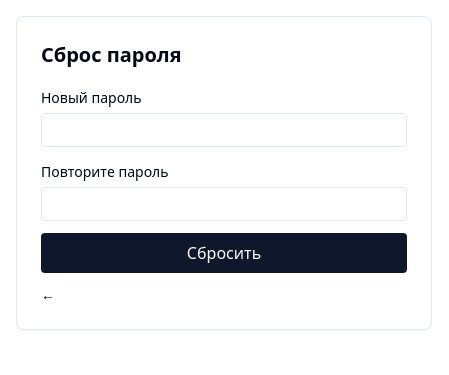
Test case: ResetPasswordPage › shows error on 400
Step 1. Type "12345678" into the password field labelled "Новый пароль" → (224, 130), box [41,113,407,147]
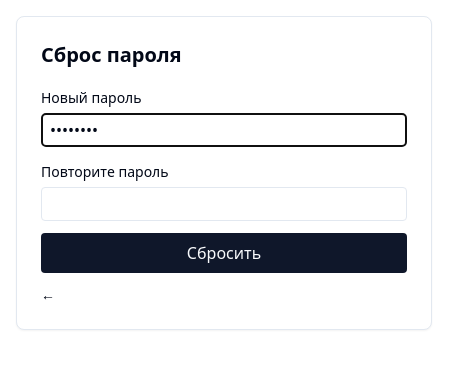
Step 2. Type "12345678" into the password field labelled "Повторите пароль" → (224, 204), box [41,187,407,221]
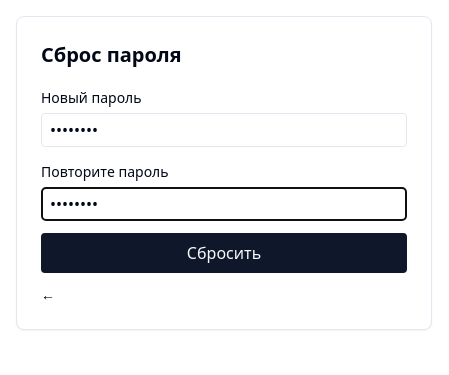
Step 3. Click the button "Сбросить" → (224, 253), box [41,233,407,273]
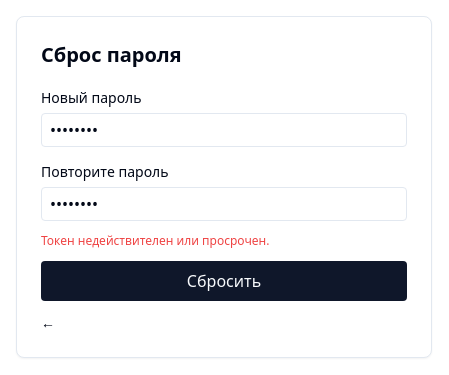
Check: the text "Токен недействителен или просрочен." is shown, box [41,232,269,249]
